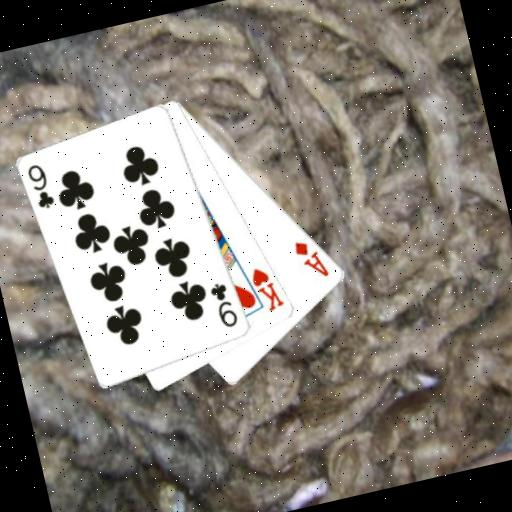9C: (206, 277, 242, 332), (23, 159, 59, 214)
AD: (290, 233, 332, 285)
KH: (246, 261, 287, 317)
